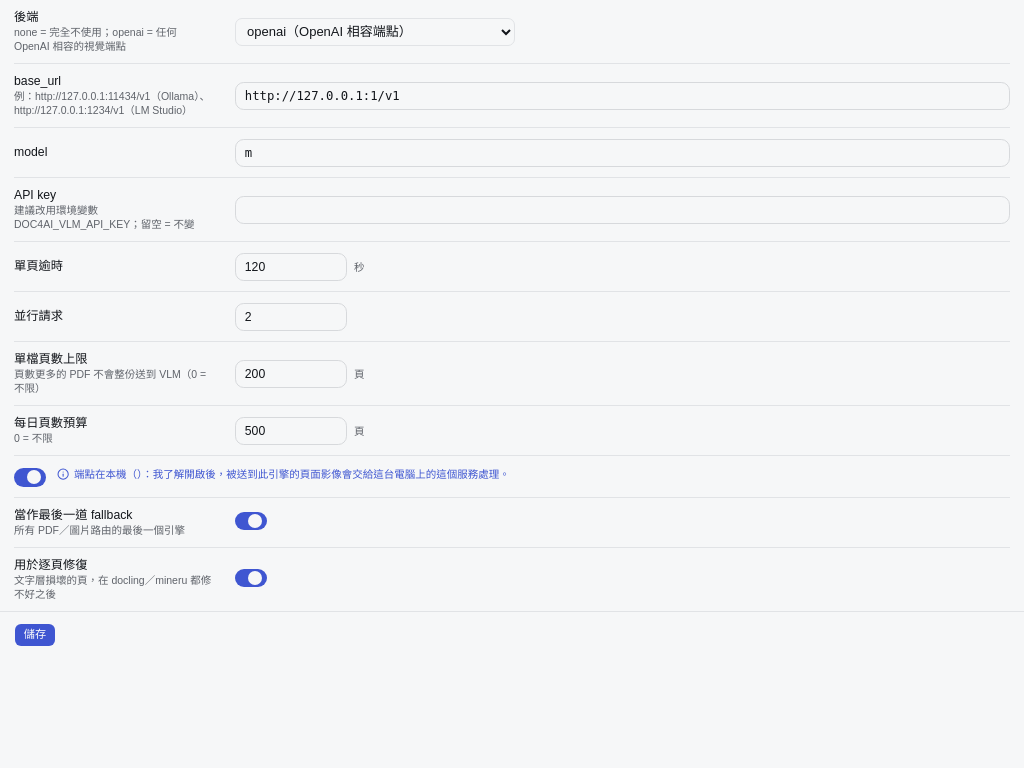
VlmBackendForm consent and endpoint changes › turns consent off when the endpoint host changes
The width and height of the screenshot is (1024, 768).
Later steps or results of the test are not shown.
Step 1. Replace the text in the field labelled "base_url" with "https://api.example.com/v1" → point(622, 96), box [235,82,1010,110]
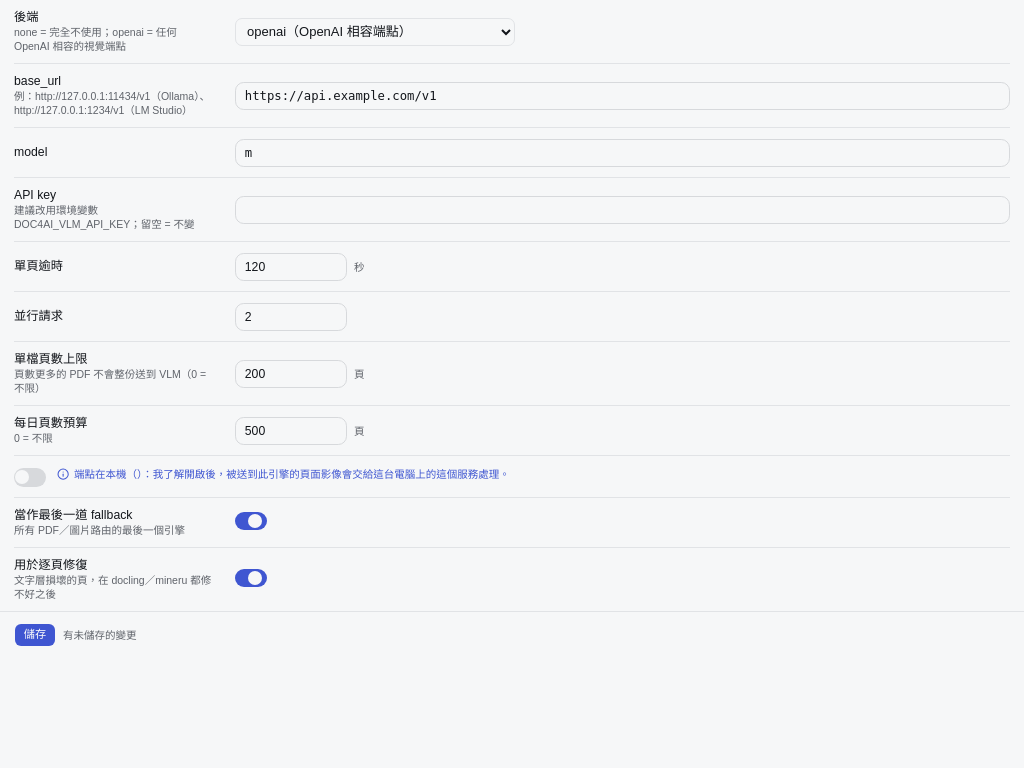
Expected: the switch named "我了解" next to "端點在本機（" is not checked, [14,468,46,487]
